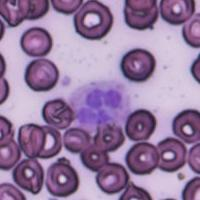N: (69, 78, 132, 132)
